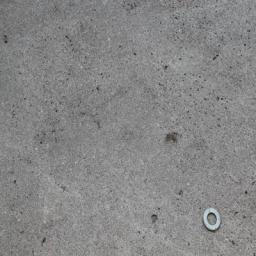FOD: (199, 208, 226, 234)
